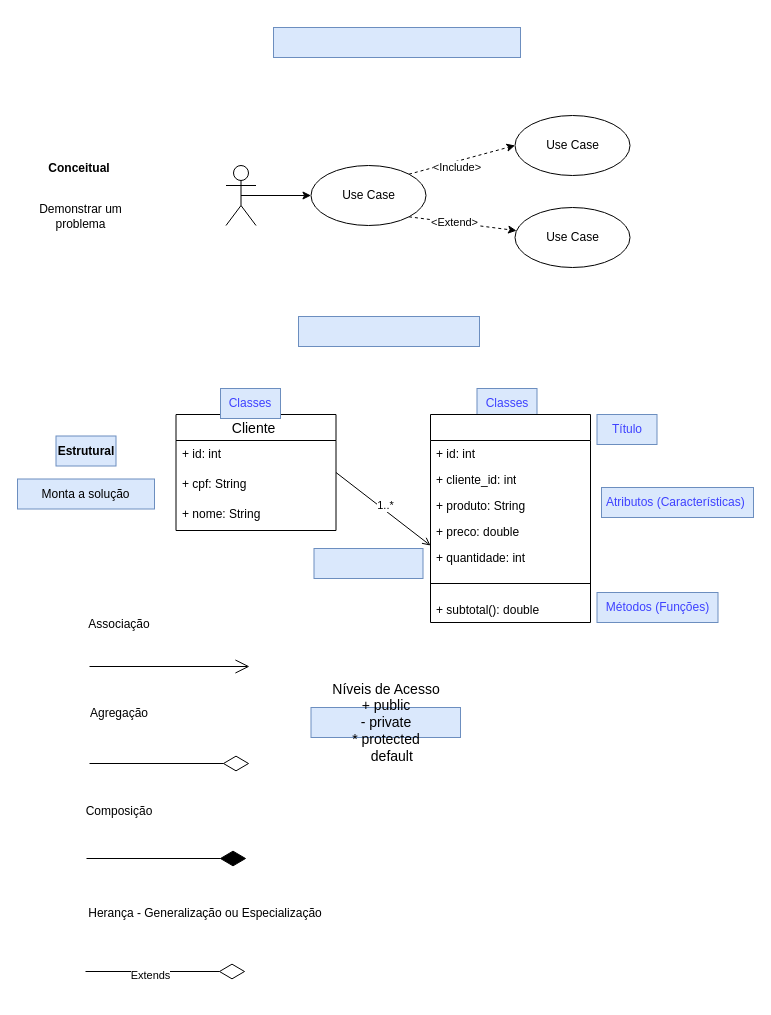
Image size: 771x1015. Some labels were removed from this diagram. Here are the shapes that lost their labels. From the top down, the box of each, then its label:
(272, 26, 520, 58): UML DCU (Diagrama de Casos de Uso) Exemplo
(225, 164, 256, 226): Actor
(298, 316, 480, 346): UML DC (Diagrama de Classes) Exemplo
(430, 414, 590, 622): Pedido
(313, 548, 423, 578): Cardinalidade 1..* Um para muitos
